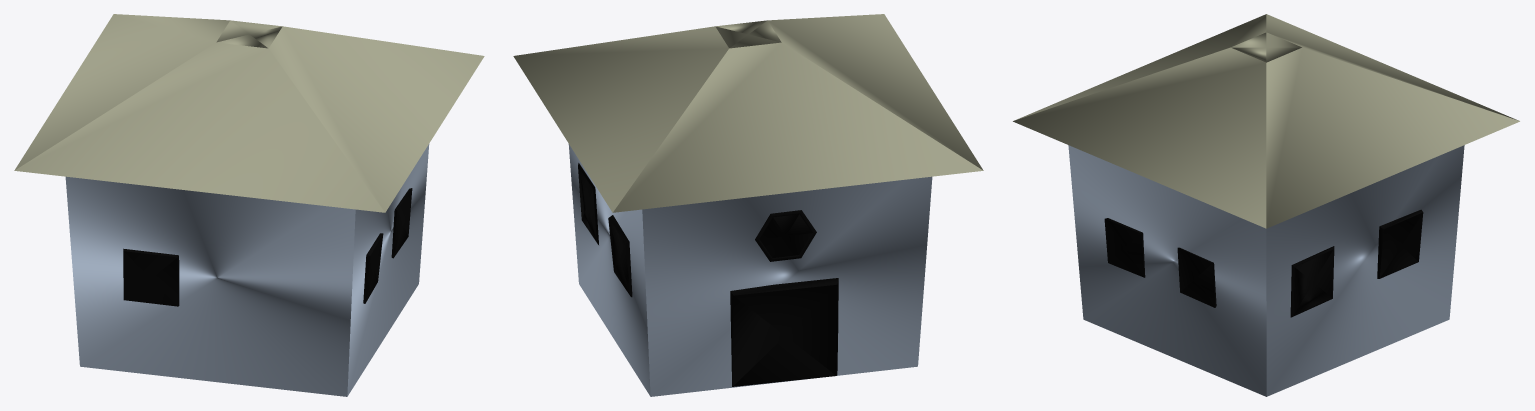
The model's file is house3.fbx.
3 renders of one model, left to right at view 1: azimuth 30°, elevation 25°; view 2: azimuth 150°, elevation 25°; view 3: azimuth 270°, elevation 25°, orthographic. The views are drawn at different scales.
Visible parts, largest first — view 1: house3; view 2: house3; view 3: house3.
Boxes of the visible parts, left/top/right/bottom form: house3: left=14, top=14, right=484, bottom=396; house3: left=513, top=14, right=983, bottom=396; house3: left=1013, top=14, right=1519, bottom=396.
Size of the model in its own units: 85.9 by 50.89 by 85.9.
